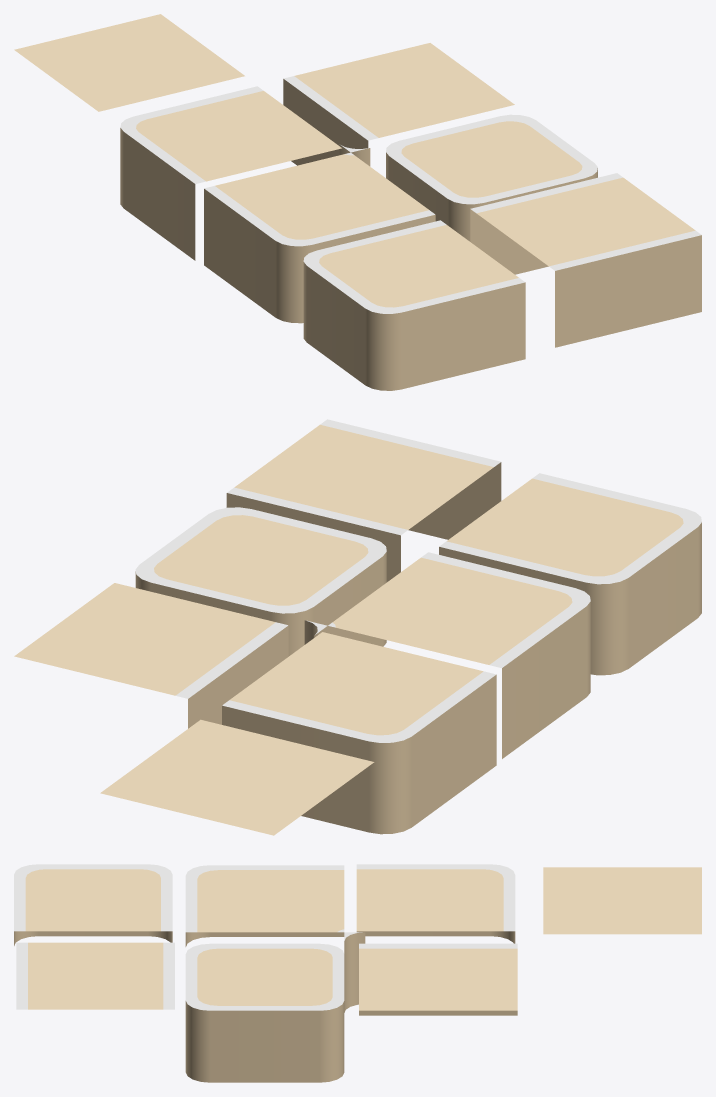
The model's file is Map_Blocks.fbx.
The picture shows the model from 3 angles, top to bottom: view 1: azimuth 30°, elevation 25°; view 2: azimuth 150°, elevation 25°; view 3: azimuth 270°, elevation 25°; orthographic projection. The views are drawn at different scales.
Visible parts, largest first — view 1: Map_tip, Map_Long, Map_corner_special, Map_Corner, Map_Block, Map_edge, Map_Center; view 2: Map_Corner, Map_tip, Map_corner_special, Map_Long, Map_Block, Map_edge, Map_Center; view 3: Map_Block, Map_corner_special, Map_Corner, Map_edge, Map_tip, Map_Long, Map_Center.
Part boxes in pixels (x1,y1,x2,y2): Map_tip: [303, 220, 525, 390]; Map_Long: [470, 173, 701, 347]; Map_corner_special: [204, 144, 435, 323]; Map_Corner: [120, 86, 341, 260]; Map_Block: [386, 114, 597, 241]; Map_edge: [283, 43, 514, 165]; Map_Center: [14, 14, 244, 111]; Map_Corner: [222, 632, 496, 834]; Map_tip: [439, 473, 701, 675]; Map_corner_special: [304, 552, 590, 758]; Map_Long: [226, 419, 501, 582]; Map_Block: [135, 507, 386, 656]; Map_edge: [14, 583, 288, 728]; Map_Center: [100, 719, 374, 835]; Map_Block: [185, 943, 344, 1082]; Map_corner_special: [185, 865, 365, 1012]; Map_Corner: [356, 864, 515, 943]; Map_edge: [359, 943, 517, 1015]; Map_tip: [14, 864, 172, 945]; Map_Long: [16, 942, 174, 1009]; Map_Center: [543, 867, 701, 934].
Bounding box in the file's own units: 230 × 54.1 × 452.
